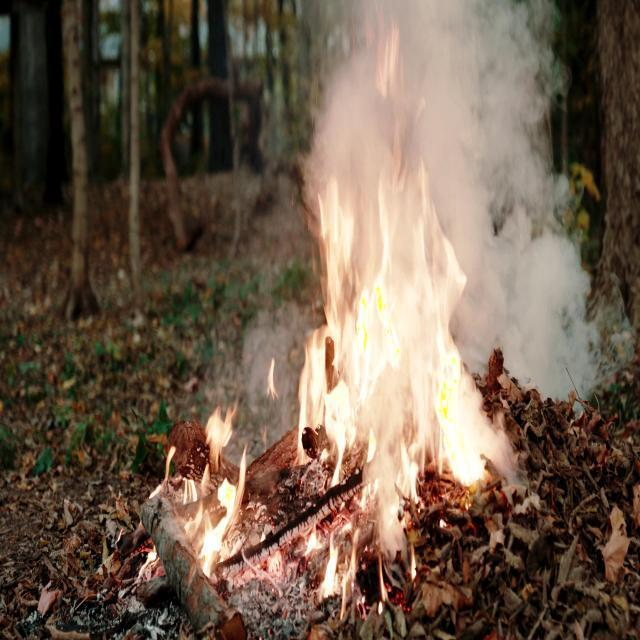Fire: (284, 162, 495, 602), (148, 390, 260, 576)
Smoke: (263, 0, 581, 249), (442, 0, 599, 406)
